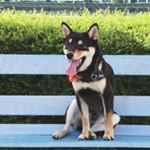puppy: (50, 18, 122, 144)
